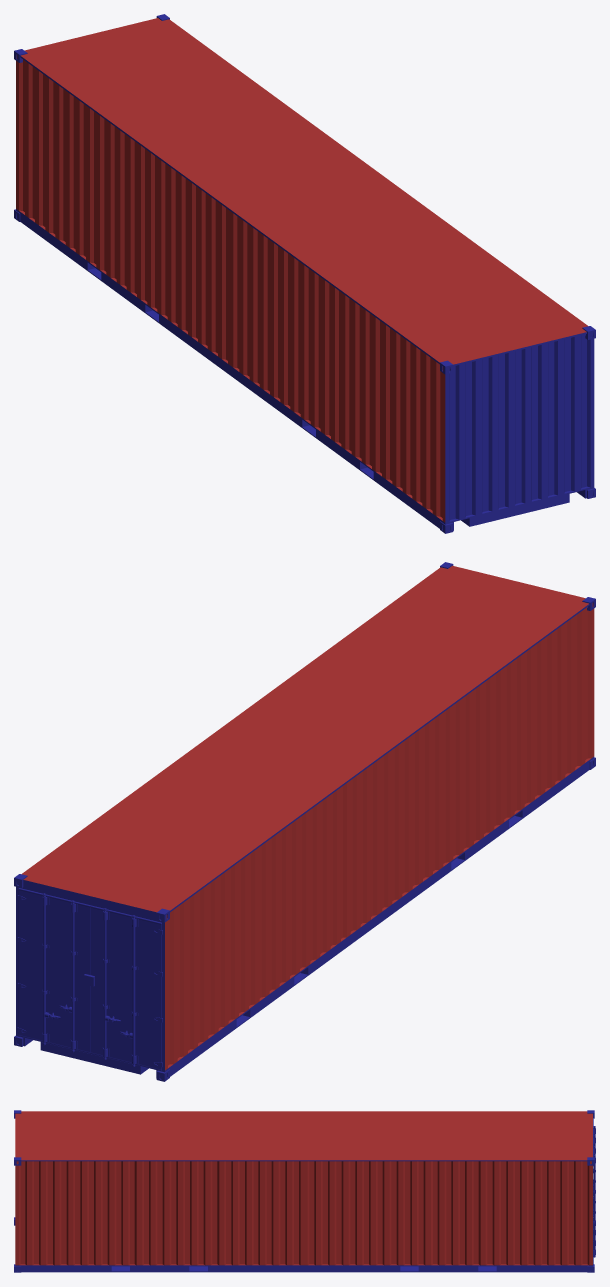
Rendered from Container 40ft sealed gray 1.fbx.
3 views of the same model, one above another, from view 1: azimuth 30°, elevation 25°; view 2: azimuth 150°, elevation 25°; view 3: azimuth 270°, elevation 25° (orthographic). The views are drawn at different scales.
Visible parts, largest first — view 1: Container_40ft1_Container_40ft_hollow_Door3; view 2: Container_40ft1_Container_40ft_hollow_Door3; view 3: Container_40ft1_Container_40ft_hollow_Door3.
Part boxes in pixels (<box>): Container_40ft1_Container_40ft_hollow_Door3: <box>14,14,595,533</box>; Container_40ft1_Container_40ft_hollow_Door3: <box>14,562,595,1081</box>; Container_40ft1_Container_40ft_hollow_Door3: <box>14,1110,595,1272</box>.
Bounding box in the file's own units: 2.46 × 2.61 × 12.21.
